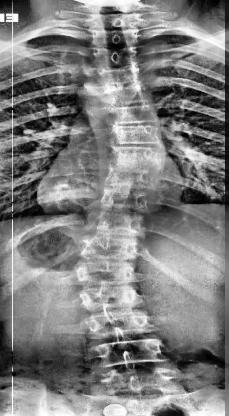Vertebrae: (93, 337, 169, 363), (72, 260, 148, 286), (75, 233, 148, 260), (84, 310, 158, 336), (85, 209, 153, 236), (99, 145, 174, 169), (77, 288, 146, 310), (102, 169, 162, 191), (95, 192, 153, 214), (100, 82, 156, 104), (104, 124, 164, 144), (96, 64, 148, 86), (98, 107, 162, 123), (92, 46, 140, 64), (92, 30, 128, 44)
